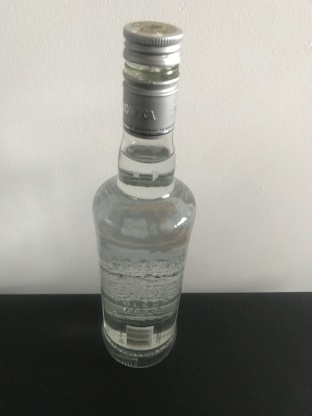nakretka: (120, 19, 184, 140)
